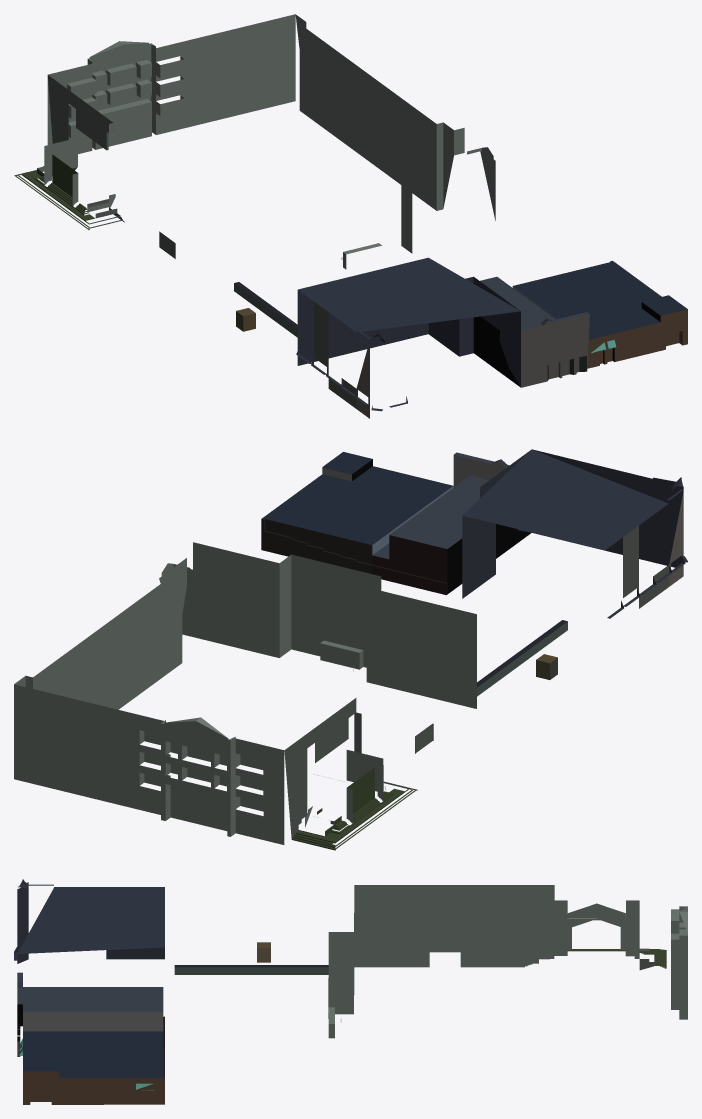
File: 600-market-street.glb
3 views of the same model, one above another, from view 1: azimuth 30°, elevation 25°; view 2: azimuth 150°, elevation 25°; view 3: azimuth 270°, elevation 25° (orthographic). The views are drawn at different scales.
Visible parts, largest first — view 1: LOD0; view 2: LOD0; view 3: LOD0.
Part boxes in pixels (bbox=[...]): LOD0: bbox=[14, 14, 687, 418]; LOD0: bbox=[14, 449, 687, 850]; LOD0: bbox=[14, 879, 687, 1104].
Size of what is drawn, in the model's own units: 69.3 by 19.39 by 127.
2 materials, 2 textured.
